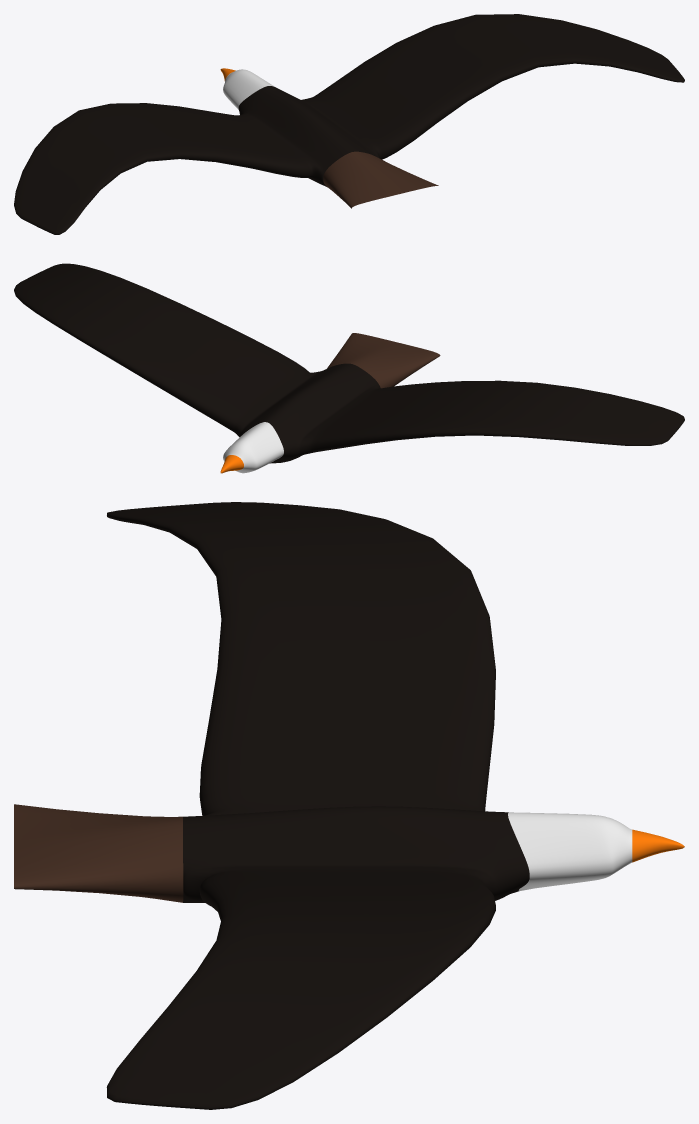
The model's file is eagle.glb.
3 renders of one model, top to bottom at view 1: azimuth 30°, elevation 25°; view 2: azimuth 150°, elevation 25°; view 3: azimuth 270°, elevation 25°, orthographic. The views are drawn at different scales.
Parts seen in each view (by area): view 1: Cylinder001; view 2: Cylinder001; view 3: Cylinder001.
Boxes of the visible parts, left/top/right/bottom form: Cylinder001: left=14, top=14, right=684, bottom=234; Cylinder001: left=14, top=263, right=684, bottom=473; Cylinder001: left=14, top=502, right=684, bottom=1109.
Size of the model in its own units: 260 by 32.16 by 122.
